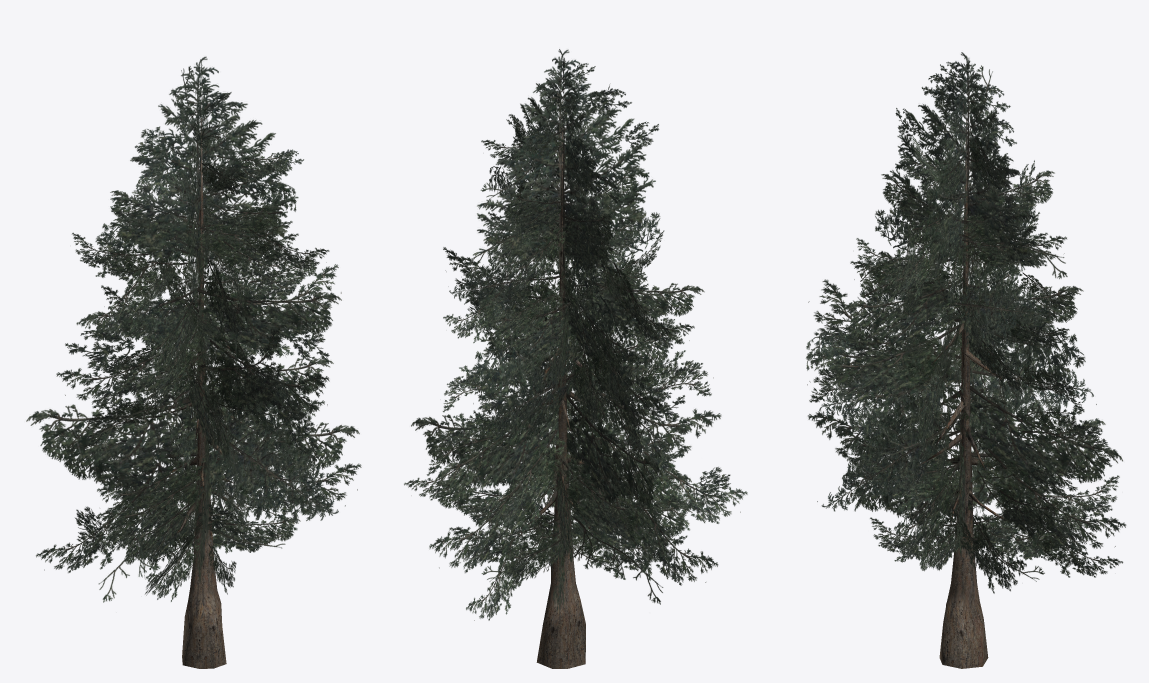
The model's file is tree_03.glb.
3 renders of one model, left to right at view 1: azimuth 30°, elevation 25°; view 2: azimuth 150°, elevation 25°; view 3: azimuth 270°, elevation 25°, orthographic.
Visible parts, largest first — view 1: Tree_Branches_01.001_Tree_Branches_01_0.001, Tree_Trunk_01_Tree_Trunk_01_0.001; view 2: Tree_Branches_01.001_Tree_Branches_01_0.001, Tree_Trunk_01_Tree_Trunk_01_0.001; view 3: Tree_Branches_01.001_Tree_Branches_01_0.001, Tree_Trunk_01_Tree_Trunk_01_0.001.
Part boxes in pixels (x1,y1,x2,y2): Tree_Branches_01.001_Tree_Branches_01_0.001: (26, 56, 361, 602); Tree_Trunk_01_Tree_Trunk_01_0.001: (169, 105, 253, 668); Tree_Branches_01.001_Tree_Branches_01_0.001: (404, 49, 747, 620); Tree_Trunk_01_Tree_Trunk_01_0.001: (527, 99, 602, 668); Tree_Branches_01.001_Tree_Branches_01_0.001: (806, 52, 1126, 593); Tree_Trunk_01_Tree_Trunk_01_0.001: (917, 104, 1006, 668).
Size of the model in its own units: 5.91 by 10.34 by 5.46.
2 materials, 2 textured.
